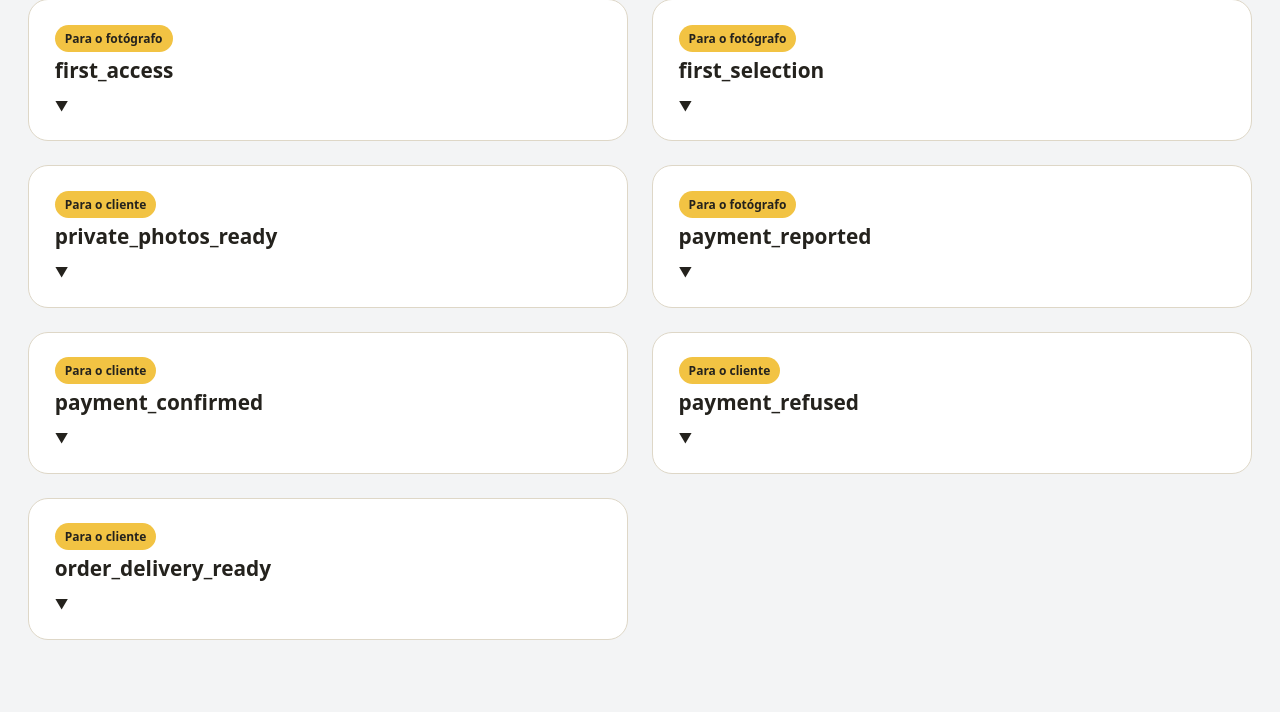
Test case: mostra prévias de pagamento para compra agrupada e pedido individual
(page scrolled)
Click the heading "Para o cliente payment_confirmed ▼": (159, 402) [55, 357, 263, 447]
(page scrolled)
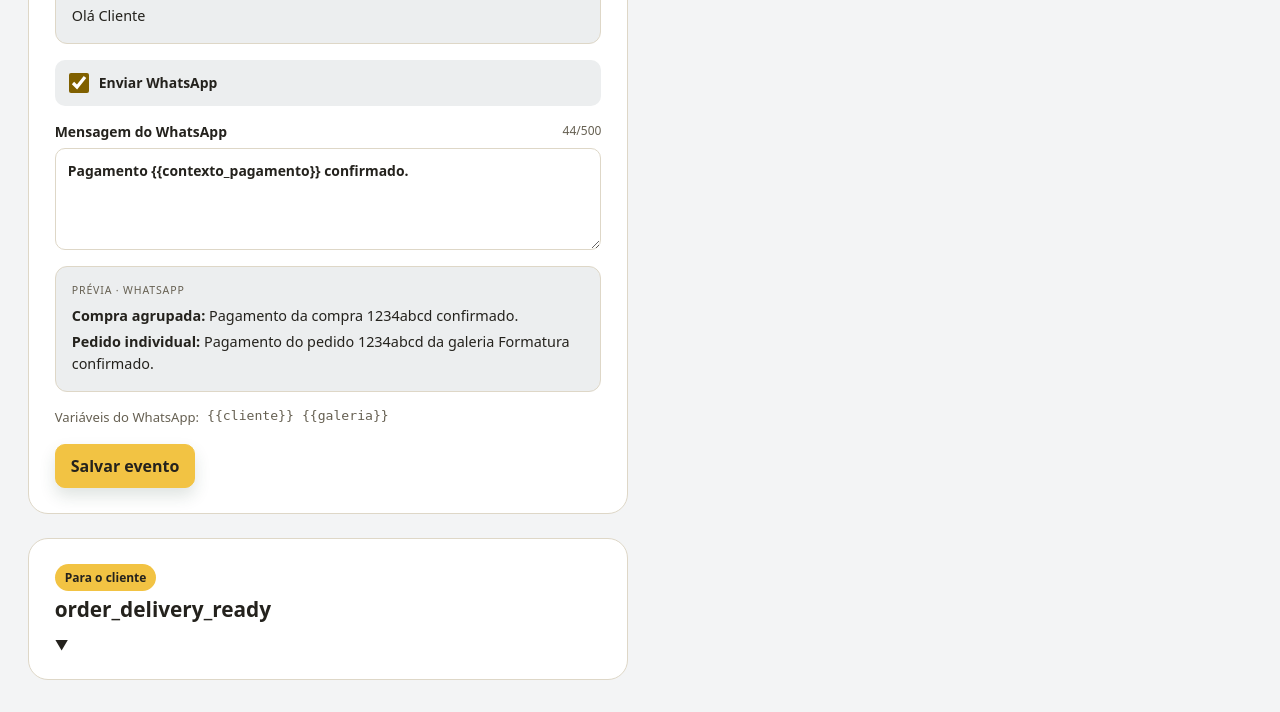
Result: the text "Pagamento da compra 1234abcd confirmado." is shown at [209, 306, 518, 325]
Result: the text "Pagamento do pedido 1234abcd da galeria Formatura confirmado." is shown at [72, 332, 573, 373]
